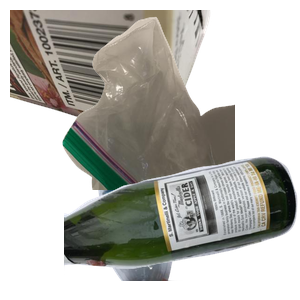cardboard: (10, 10, 213, 146)
glass: (64, 154, 300, 300)
plastic: (94, 120, 267, 300)
trash: (60, 14, 300, 194)
